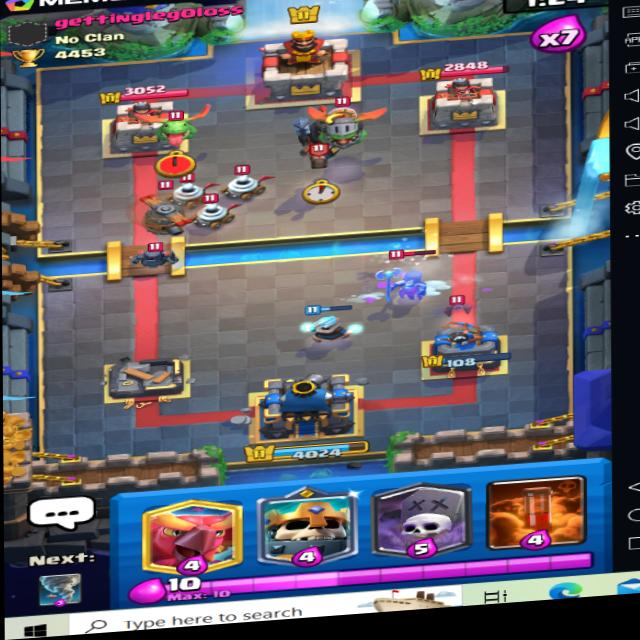baby-dragon: (135, 101, 220, 151)
bats: (440, 292, 482, 315)
flying-machine: (126, 174, 206, 240)
inferno-dragon: (313, 96, 372, 152)
mini-pekka: (129, 235, 183, 272)
night-witch: (389, 250, 436, 306)
zappie: (190, 190, 244, 228), (224, 166, 274, 203), (169, 174, 216, 207)
